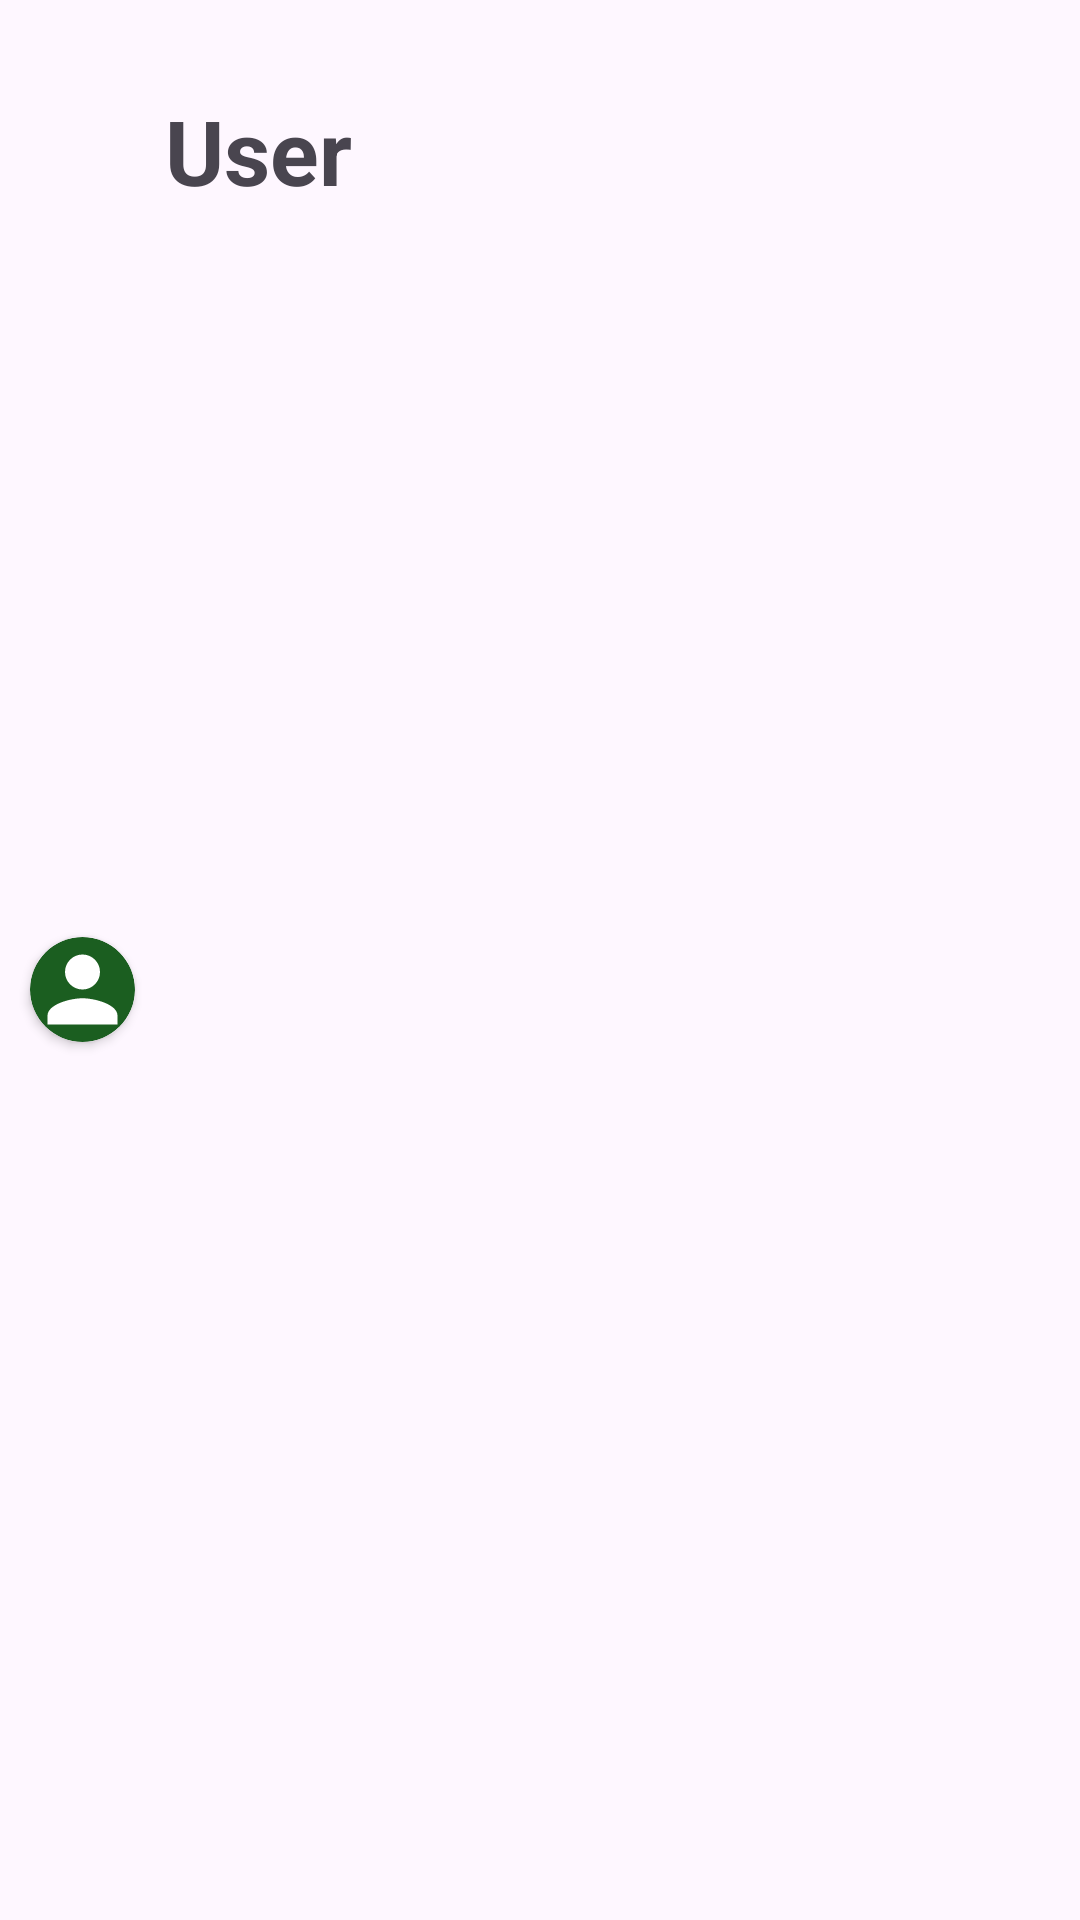

Locate icon controls on the screen. Image size 1080w x 1920h, boxes as (x1, y1, x2, y2).
user: (30, 937, 135, 1042)
